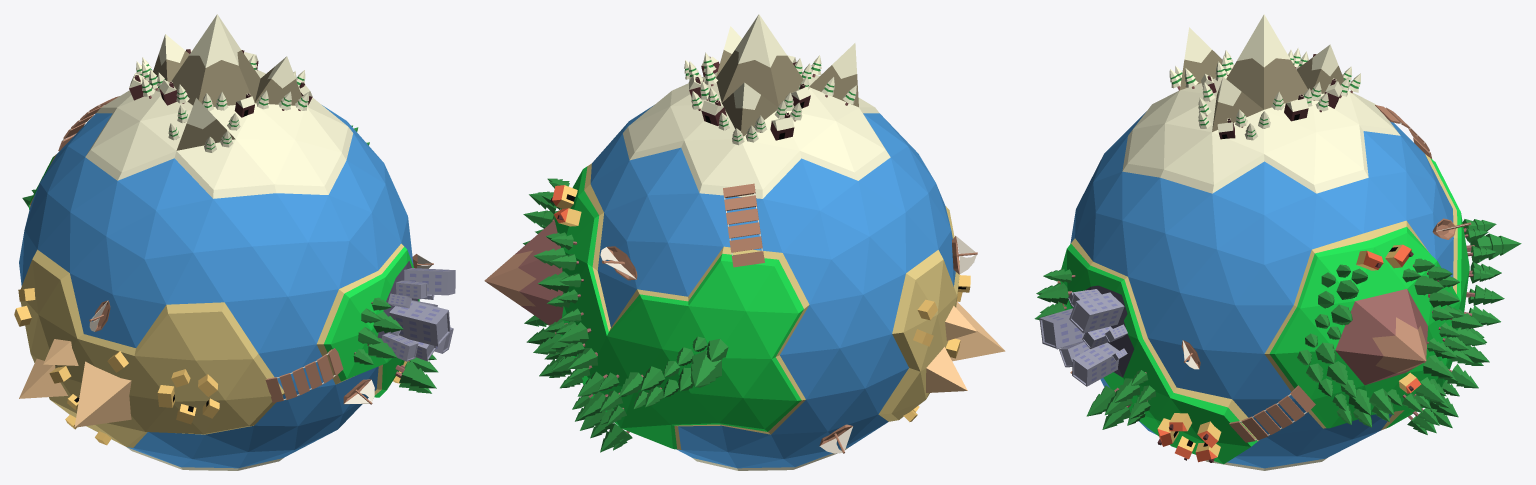
Rendered from planet.gltf.
3 renders of one model, left to right at view 1: azimuth 30°, elevation 25°; view 2: azimuth 150°, elevation 25°; view 3: azimuth 270°, elevation 25°, orthographic.
Visible parts, largest first — view 1: Planet, Cone.003, Building, Cube.002, Cone.001, Building.004, Cone.002, Building.007, Cylinder.007, Building.005, Cube; view 2: Planet, Cube, Cone.001, Cone.003, Cone.236, Cone.002; view 3: Planet, Cube.001, Building.004, Building.001, Building, Cone.236, Cube.
Part boxes in pixels (box(x1,y1,x2,y2)): Planet: box(19, 14, 419, 470); Cone.003: box(74, 361, 131, 427); Building: box(389, 301, 450, 346); Cube.002: box(265, 348, 343, 402); Cone.001: box(19, 358, 67, 398); Building.004: box(404, 268, 455, 295); Cone.002: box(43, 339, 78, 365); Building.007: box(381, 333, 418, 361); Cylinder.007: box(395, 360, 436, 388); Building.005: box(396, 280, 427, 299); Cube: box(58, 96, 119, 151); Planet: box(484, 14, 959, 470); Cube: box(723, 183, 764, 267); Cone.001: box(926, 347, 967, 392); Cone.003: box(950, 301, 1005, 361); Cone.236: box(690, 350, 721, 387); Cone.002: box(945, 306, 977, 340); Planet: box(1060, 14, 1469, 470); Cube.001: box(1229, 385, 1315, 442); Building.004: box(1069, 292, 1124, 333); Building.001: box(1072, 342, 1118, 386); Building: box(1039, 308, 1084, 348); Cone.236: box(1466, 233, 1521, 263); Cube: box(1375, 105, 1431, 158).
Bounding box in the file's own units: 4.55 × 4.74 × 4.77.
